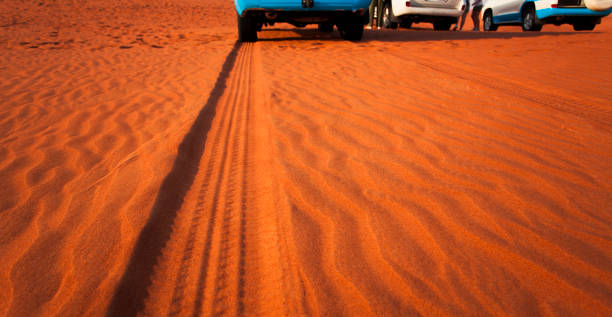vehicle_track: (145, 43, 252, 315)
